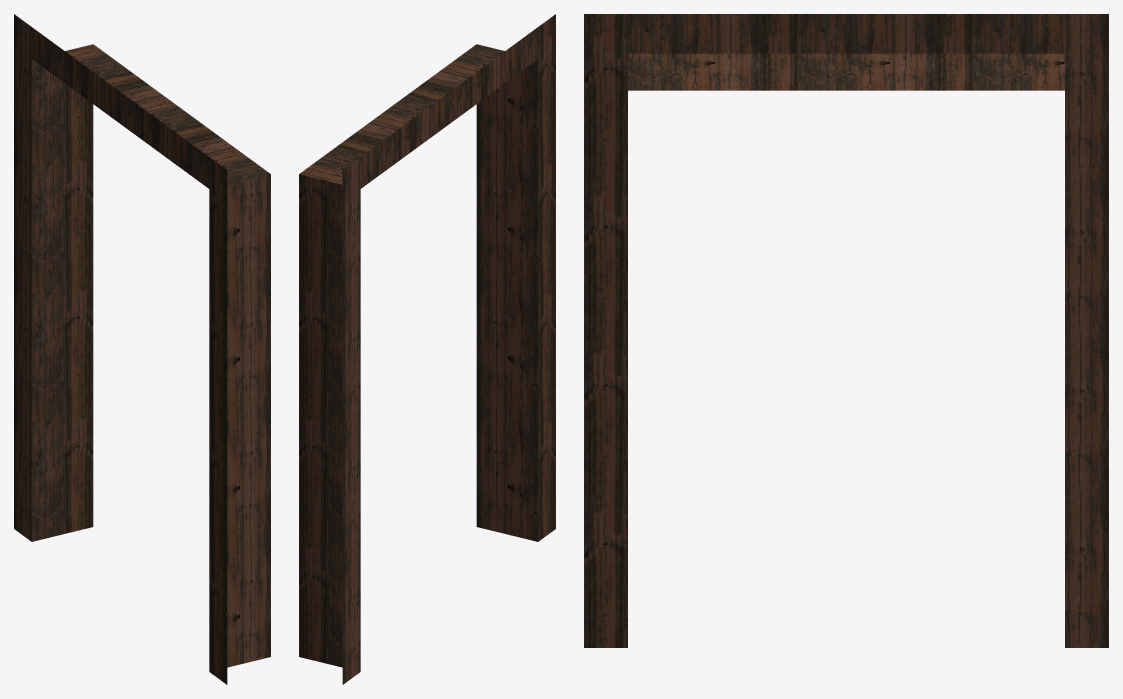
Rendered from Doorframe.fbx.
3 views of the same model, side by side, from view 1: azimuth 30°, elevation 25°; view 2: azimuth 150°, elevation 25°; view 3: azimuth 270°, elevation 25° (orthographic). The views are drawn at different scales.
Visible parts, largest first — view 1: Doorframe; view 2: Doorframe; view 3: Doorframe.
Part boxes in pixels (x1,y1,x2,y2): Doorframe: (14,14,270,684); Doorframe: (299,14,555,684); Doorframe: (584,14,1108,647).
Bounding box in the file's own units: 50 × 400 × 300.
